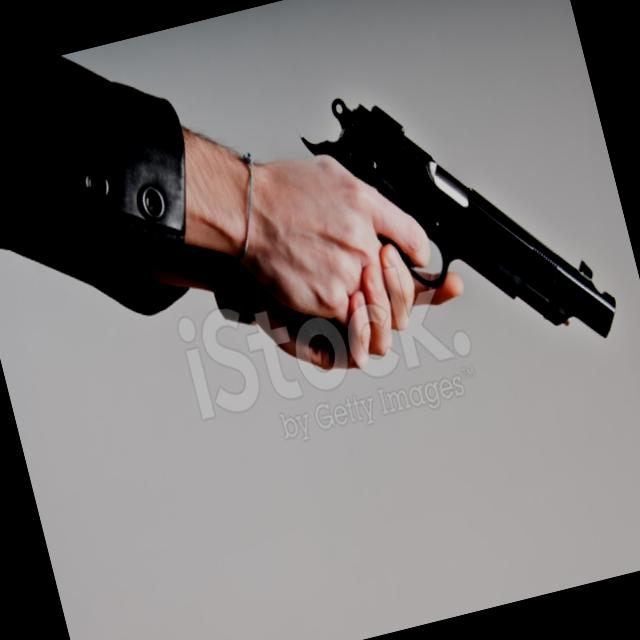handgun: (229, 42, 625, 417)
